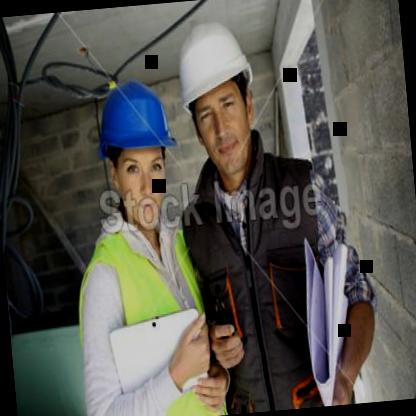helmet: (162, 14, 271, 188), (84, 61, 186, 230)
